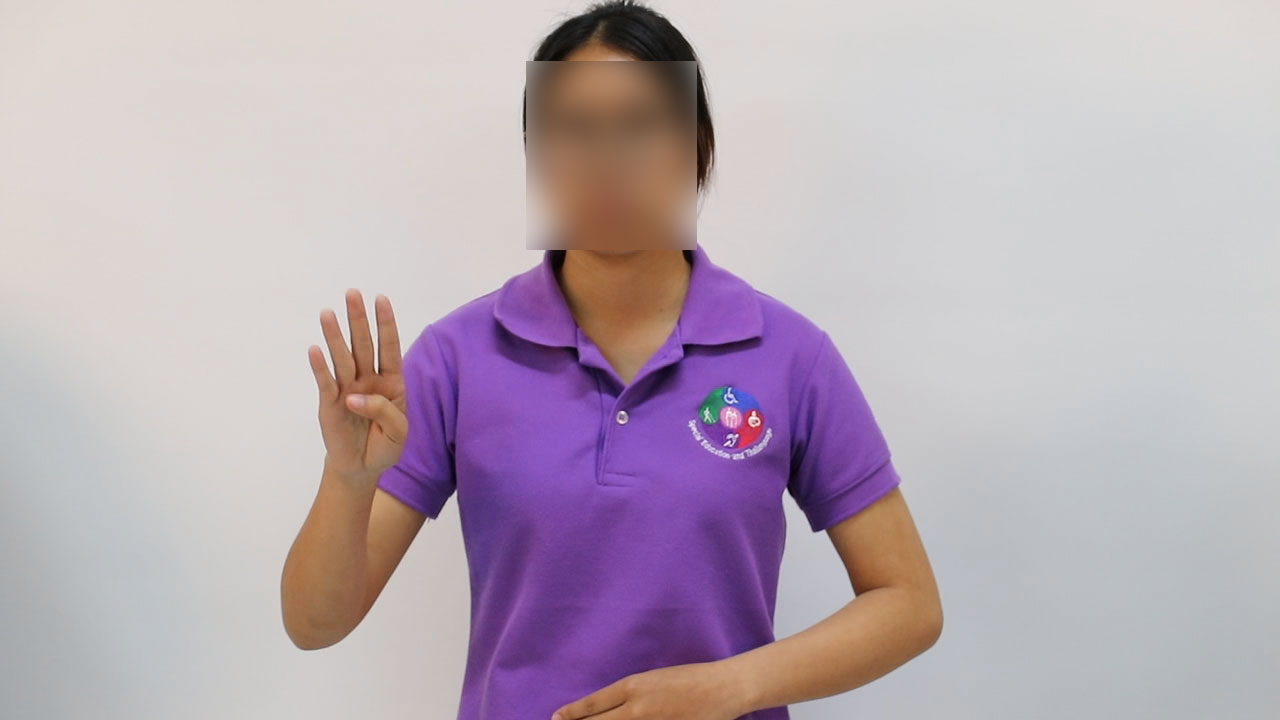bor: (299, 273, 422, 507)
